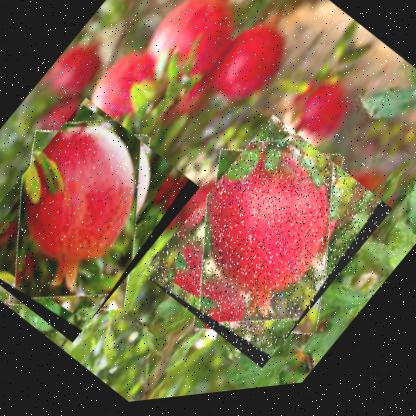pomegranate: (141, 109, 393, 385), (0, 88, 201, 352)
